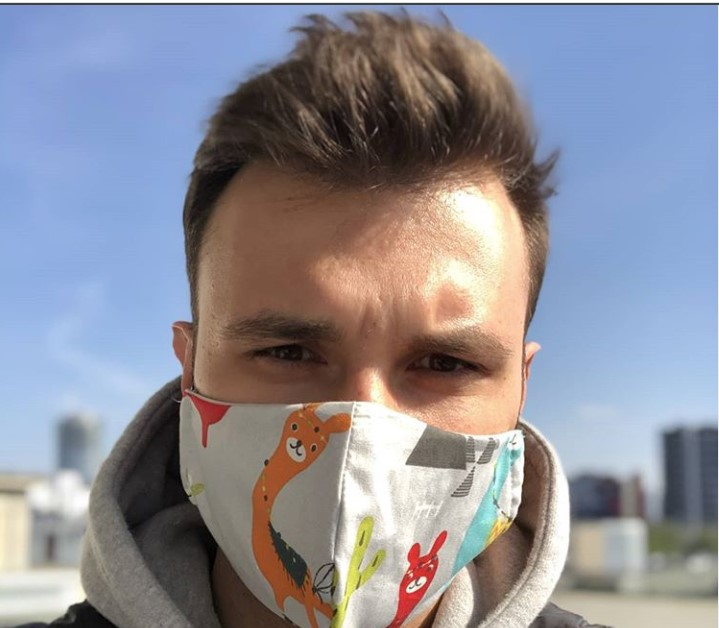face_with_mask: (168, 123, 557, 627)
